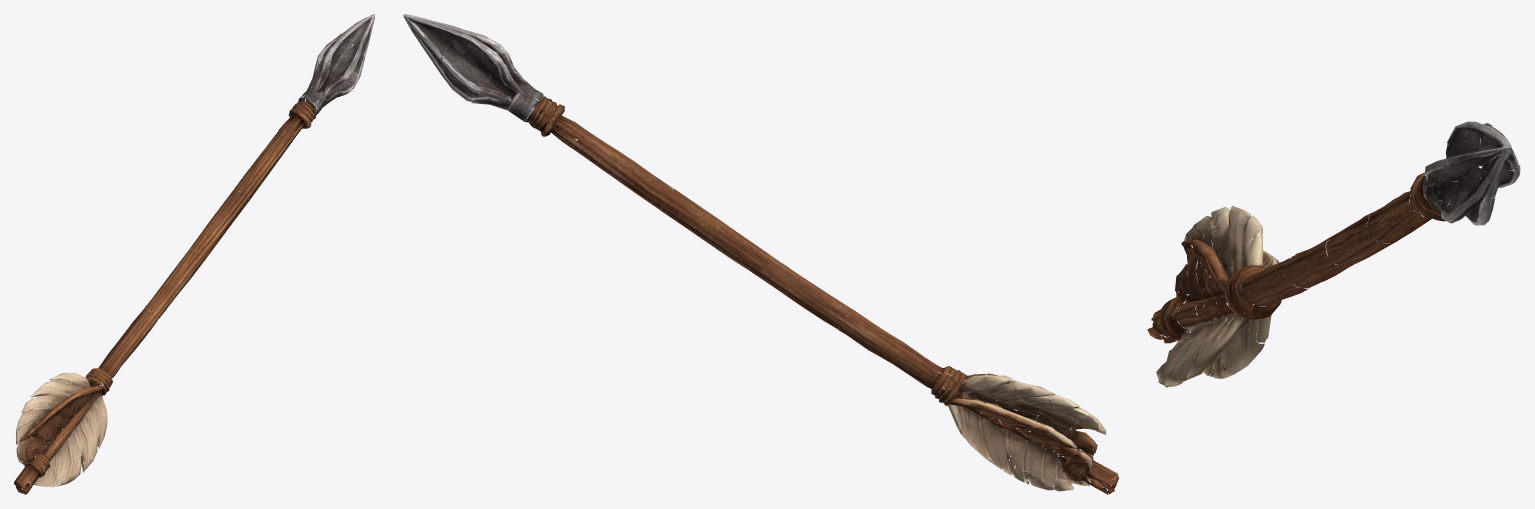
The model's file is feathered-arrow.glb.
3 views of the same model, side by side, from view 1: azimuth 30°, elevation 25°; view 2: azimuth 150°, elevation 25°; view 3: azimuth 270°, elevation 25° (orthographic). The views are drawn at different scales.
Parts seen in each view (by area): view 1: tripo_node_e1479ba3-9913-4457-9afe-6fd8e42061e6; view 2: tripo_node_e1479ba3-9913-4457-9afe-6fd8e42061e6; view 3: tripo_node_e1479ba3-9913-4457-9afe-6fd8e42061e6.
Part boxes in pixels (x1,y1,x2,y2): tripo_node_e1479ba3-9913-4457-9afe-6fd8e42061e6: [14, 14, 374, 494]; tripo_node_e1479ba3-9913-4457-9afe-6fd8e42061e6: [403, 14, 1118, 494]; tripo_node_e1479ba3-9913-4457-9afe-6fd8e42061e6: [1147, 121, 1520, 387].
Size of the model in its own units: 0.9782 by 0.6555 by 0.3565.
1 material, 1 textured.
